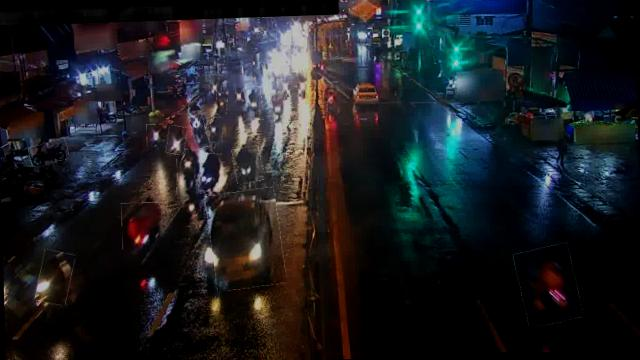Bike: (516, 244, 580, 328), (36, 250, 74, 306), (121, 202, 164, 250), (176, 150, 202, 196), (233, 146, 264, 184), (29, 140, 70, 165), (198, 152, 222, 192), (190, 110, 208, 150), (166, 126, 187, 156), (323, 81, 339, 114), (249, 86, 264, 120), (147, 124, 166, 148), (209, 116, 223, 142), (272, 94, 286, 120), (215, 92, 228, 114), (209, 75, 222, 96), (234, 84, 244, 108), (188, 102, 198, 122)
Car: (208, 188, 284, 290)
